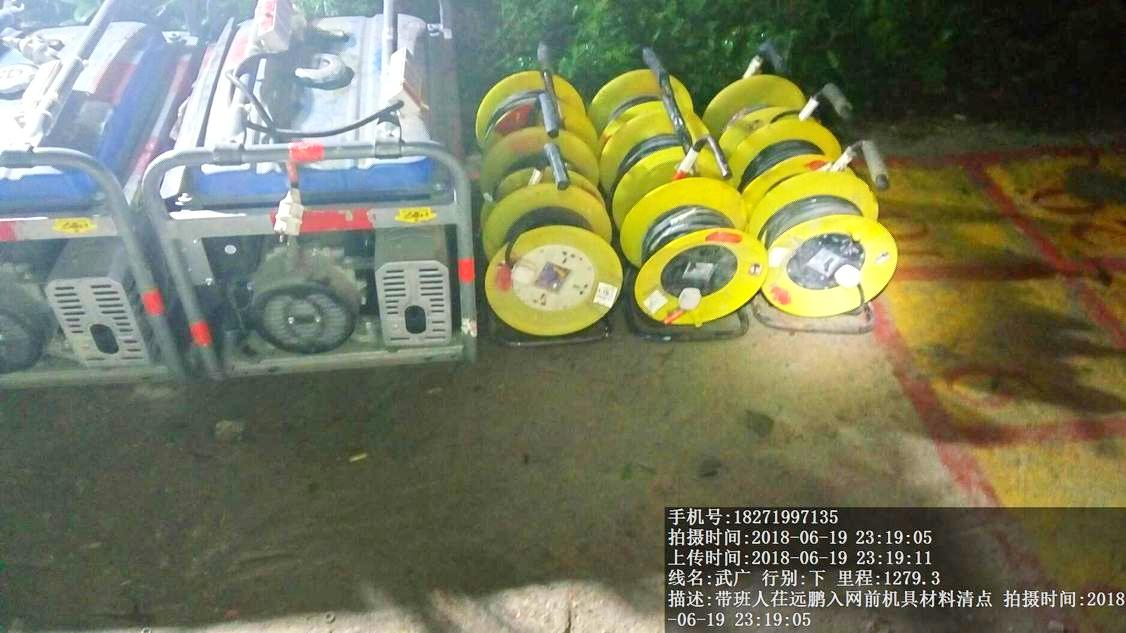DJ: (176, 22, 479, 376)
DX: (616, 183, 769, 347), (756, 173, 903, 338), (478, 188, 627, 338)
